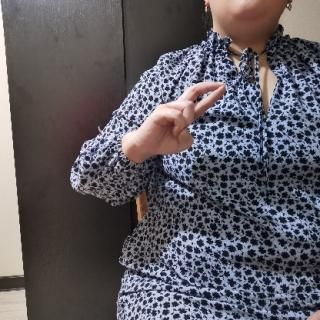ZAY: (134, 79, 228, 163)
